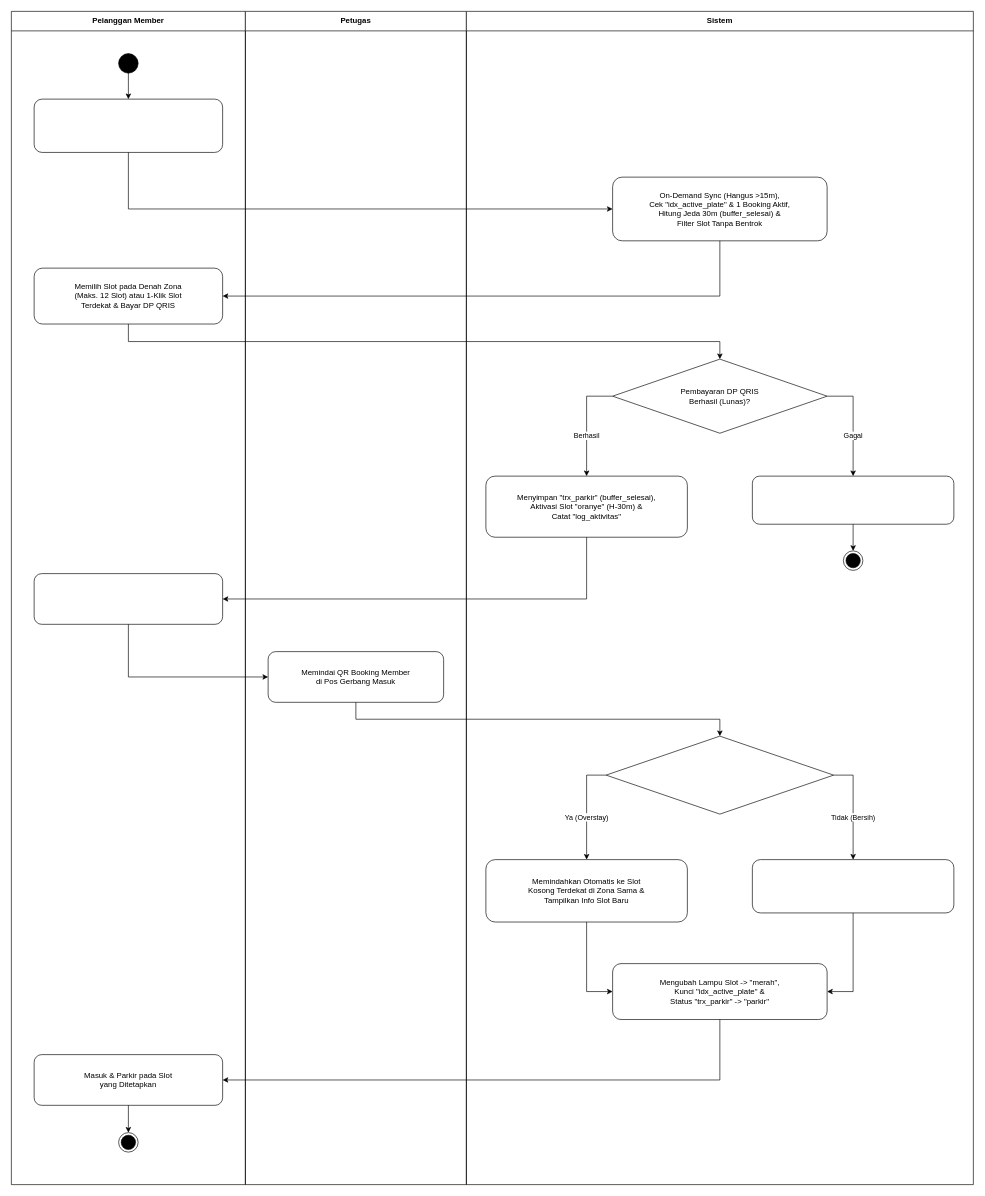
Some shapes in this 985 by 1196 pixel diagram are drawn without their labels. The centre of each missing label's shape, as x and y in pixels:
"Membatalkan Pesanan & Melepas Kunci Slot" goes at (x=853, y=499).
"Memilih Lokasi Mal, Pelat Mobil, Tanggal, Jam Datang & Durasi Parkir" goes at (x=128, y=125).
"Menerima Tiket QR Booking & Tiba di Gerbang pada Jam Pesan" goes at (x=128, y=598).
"Mengonfirmasi Slot Sesuai Pesanan Awal Member" goes at (x=853, y=886).
"Slot Pesanan Masih Terisi Mobil Sebelumnya (Telat Keluar)?" goes at (x=719, y=774).
